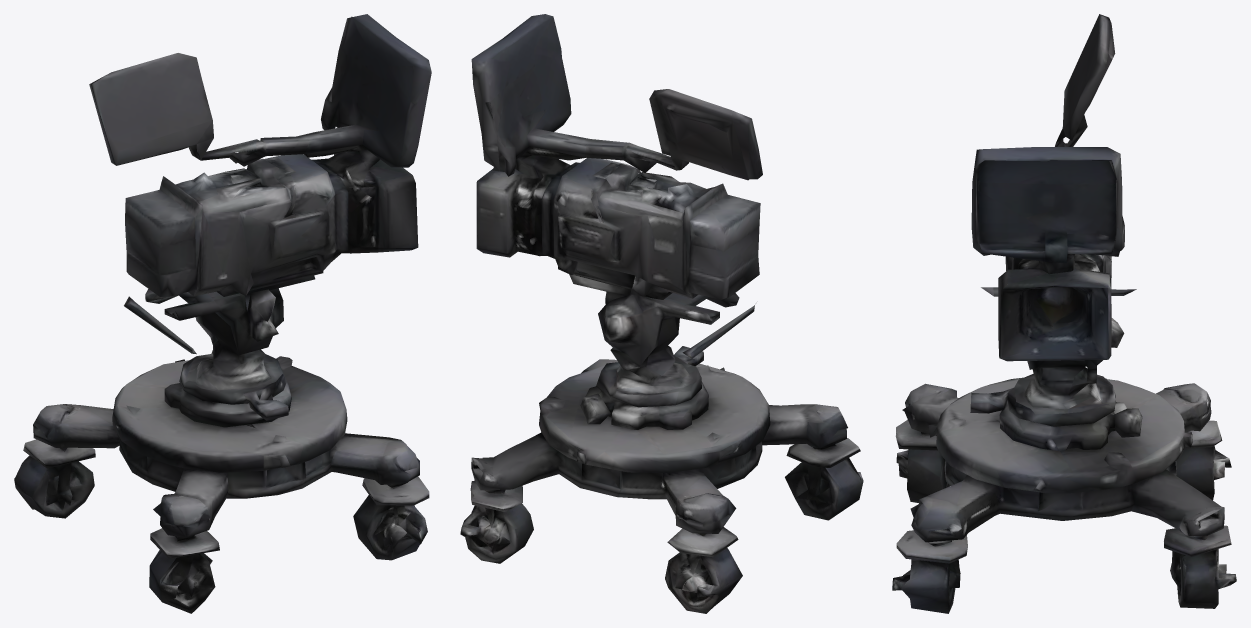
File: tv-camera.glb
3 renders of one model, left to right at view 1: azimuth 30°, elevation 25°; view 2: azimuth 150°, elevation 25°; view 3: azimuth 270°, elevation 25°, orthographic. The views are drawn at different scales.
Parts seen in each view (by area): view 1: tripo_node_02eaad5d-b4cd-471e-8aff-d5036c81ed73; view 2: tripo_node_02eaad5d-b4cd-471e-8aff-d5036c81ed73; view 3: tripo_node_02eaad5d-b4cd-471e-8aff-d5036c81ed73.
Part boxes in pixels (left/top/right/bottom): tripo_node_02eaad5d-b4cd-471e-8aff-d5036c81ed73: left=14, top=14, right=431, bottom=613; tripo_node_02eaad5d-b4cd-471e-8aff-d5036c81ed73: left=460, top=14, right=863, bottom=613; tripo_node_02eaad5d-b4cd-471e-8aff-d5036c81ed73: left=892, top=14, right=1236, bottom=613.
Size of the model in its own units: 0.6746 by 1 by 0.6309.
Materials: 1 (1 with a texture image).
